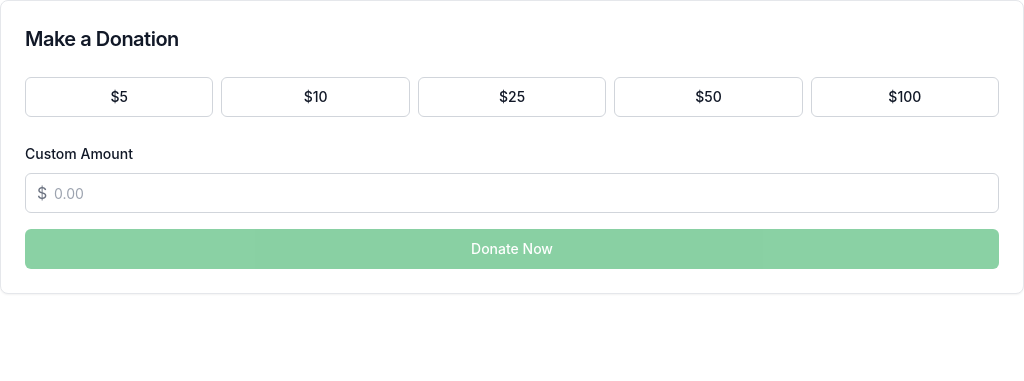
Test case: DonationForm › should show success message after donation
The image size is (1024, 381).
Click the button "$25": (512,97) [418,77,606,117]
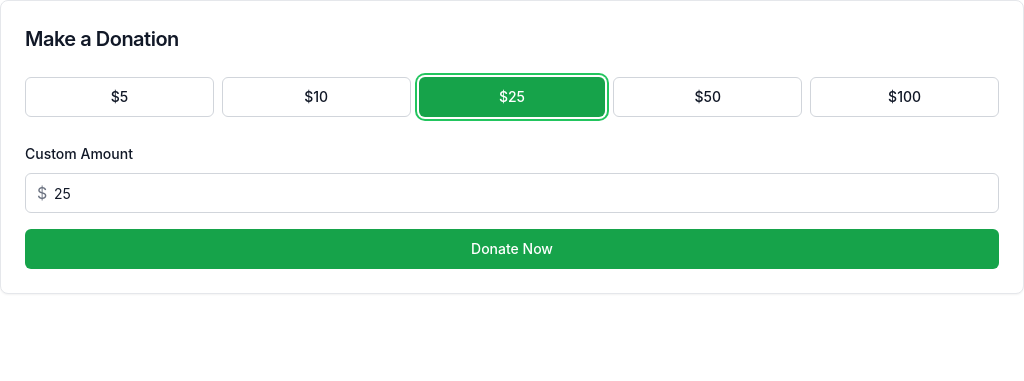
Click the button "Donate Now": (512,249) [25,229,999,269]
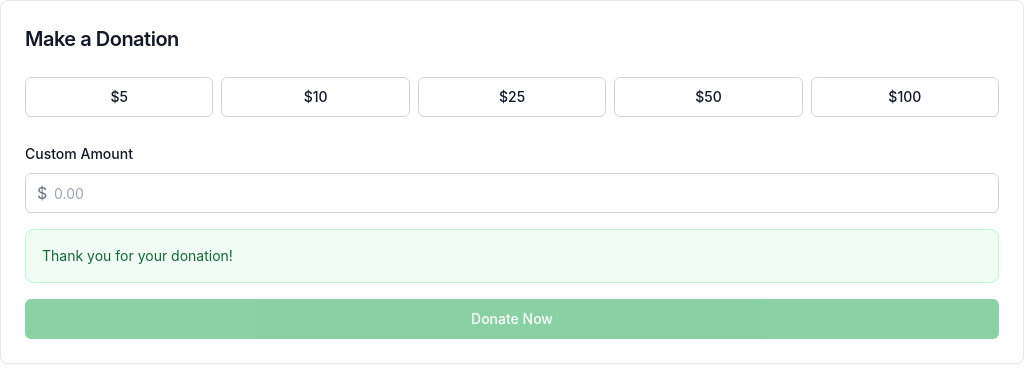
Check: the text "Thank you for your donation!" is shown, box [42,247,233,264]
